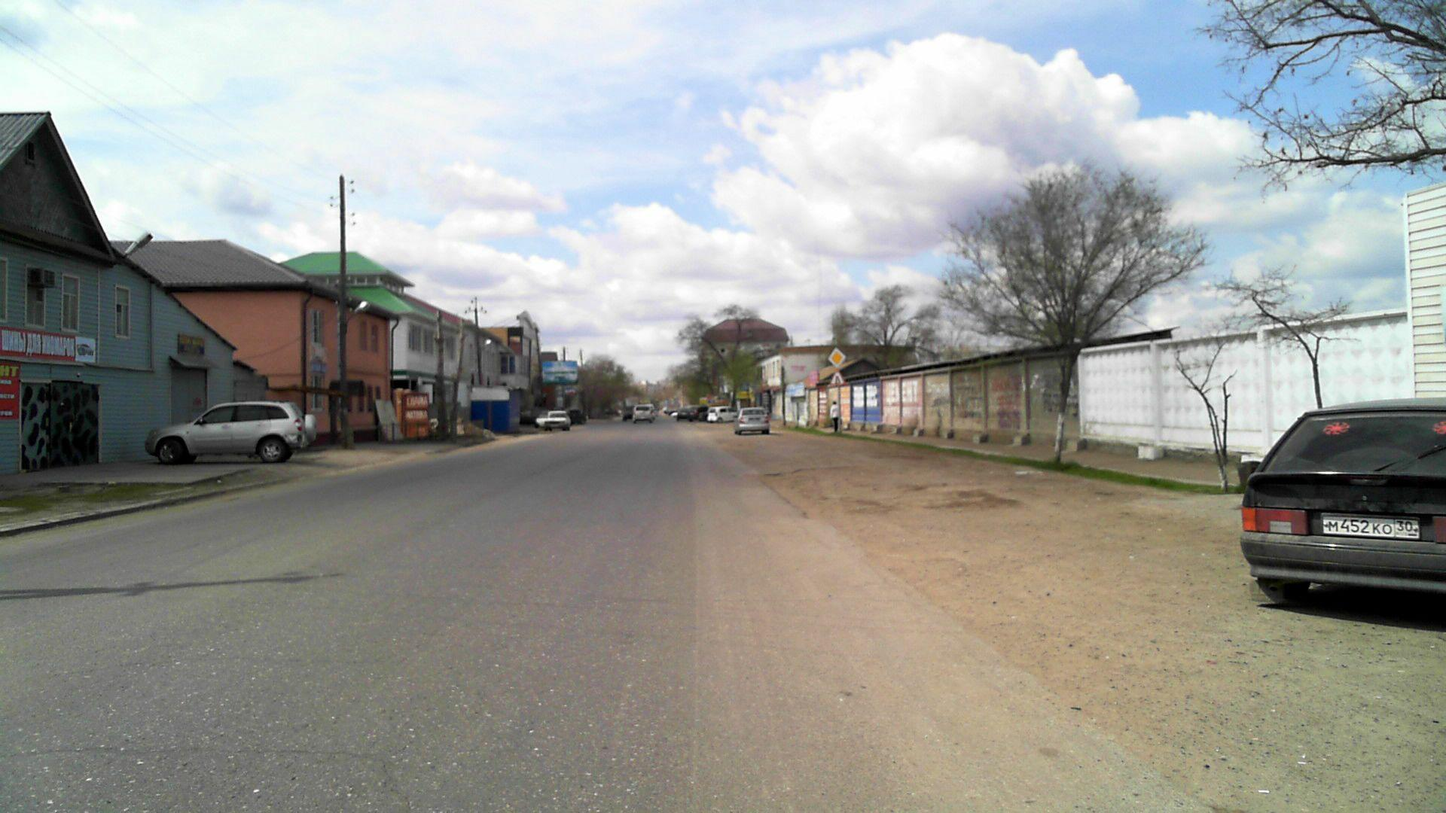road_sign: (828, 345, 847, 370)
